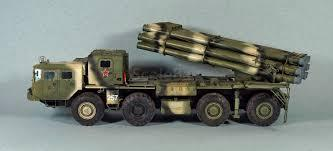MIL_SAM_TEL: (28, 19, 311, 129)
